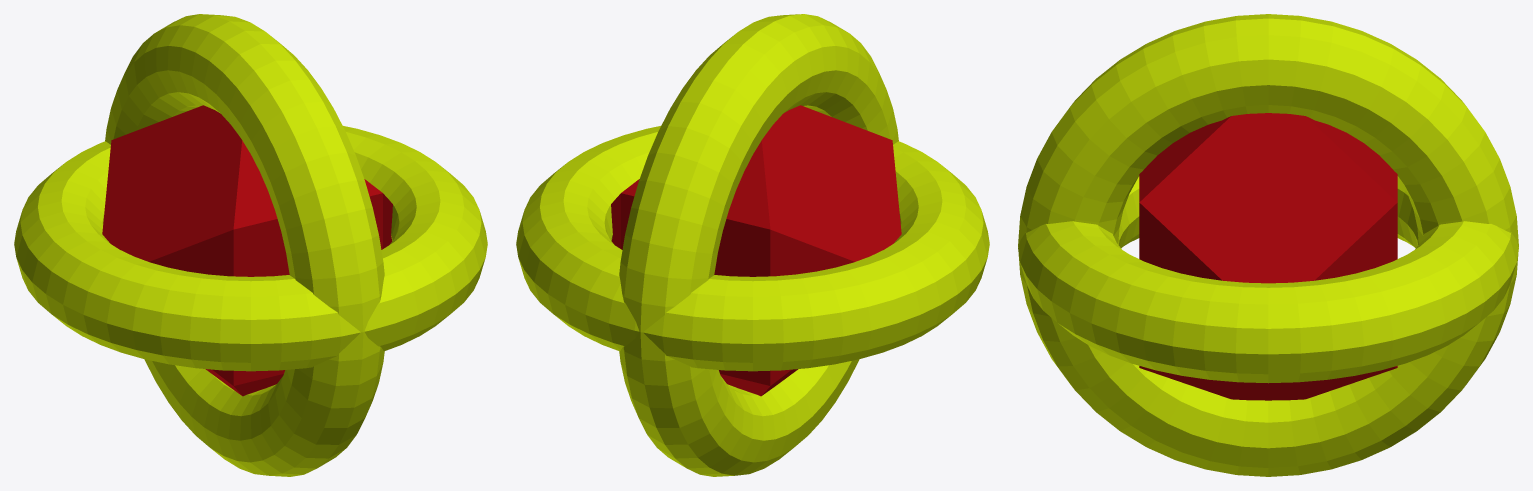
File: krasniy omulet.fbx
3 views of the same model, side by side, from view 1: azimuth 30°, elevation 25°; view 2: azimuth 150°, elevation 25°; view 3: azimuth 270°, elevation 25° (orthographic). The views are drawn at different scales.
Parts seen in each view (by area): view 1: Cube; view 2: Cube; view 3: Cube.
Part boxes in pixels (box(x1,y1,x2,y2)): Cube: box(14, 14, 487, 476); Cube: box(516, 14, 989, 476); Cube: box(1018, 14, 1518, 476).
Bounding box in the file's own units: 388 × 388 × 388.
